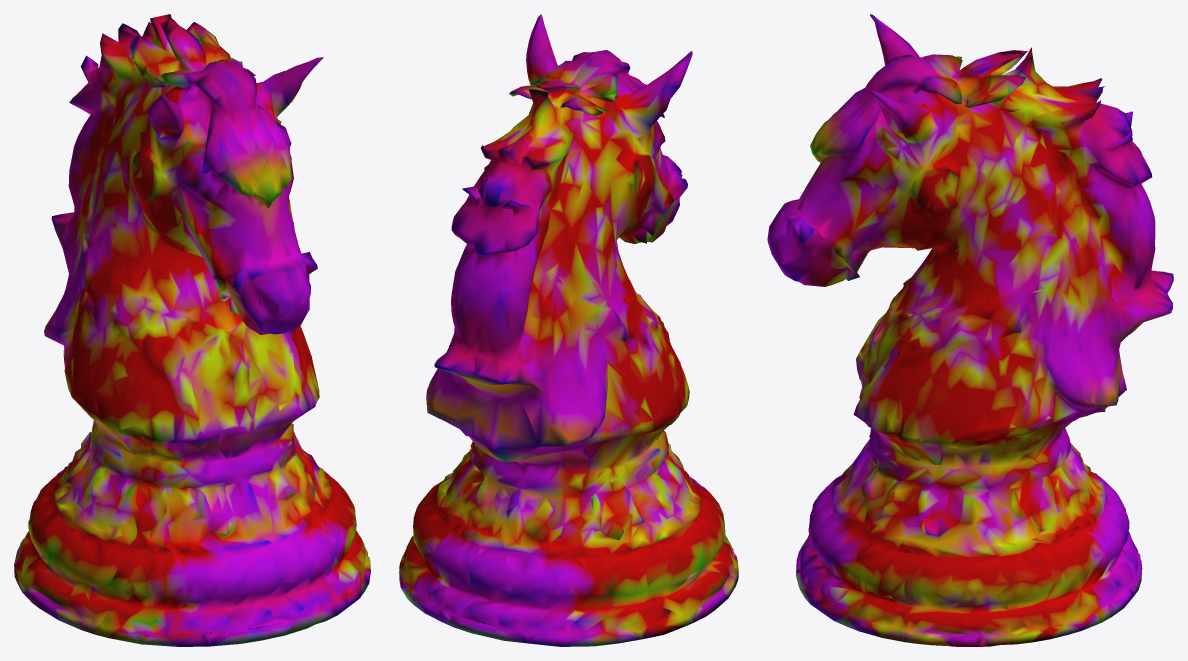
Rendered from knight.glb.
The picture shows the model from 3 angles, left to right: view 1: azimuth 30°, elevation 25°; view 2: azimuth 150°, elevation 25°; view 3: azimuth 270°, elevation 25°; orthographic projection. The views are drawn at different scales.
Visible parts, largest first — view 1: geometry_0; view 2: geometry_0; view 3: geometry_0.
Part boxes in pixels (left/top/right/bottom): geometry_0: left=14, top=14, right=370, bottom=646; geometry_0: left=399, top=14, right=738, bottom=646; geometry_0: left=767, top=14, right=1173, bottom=646.
Size of the model in its own units: 0.6023 by 1 by 0.7042.
